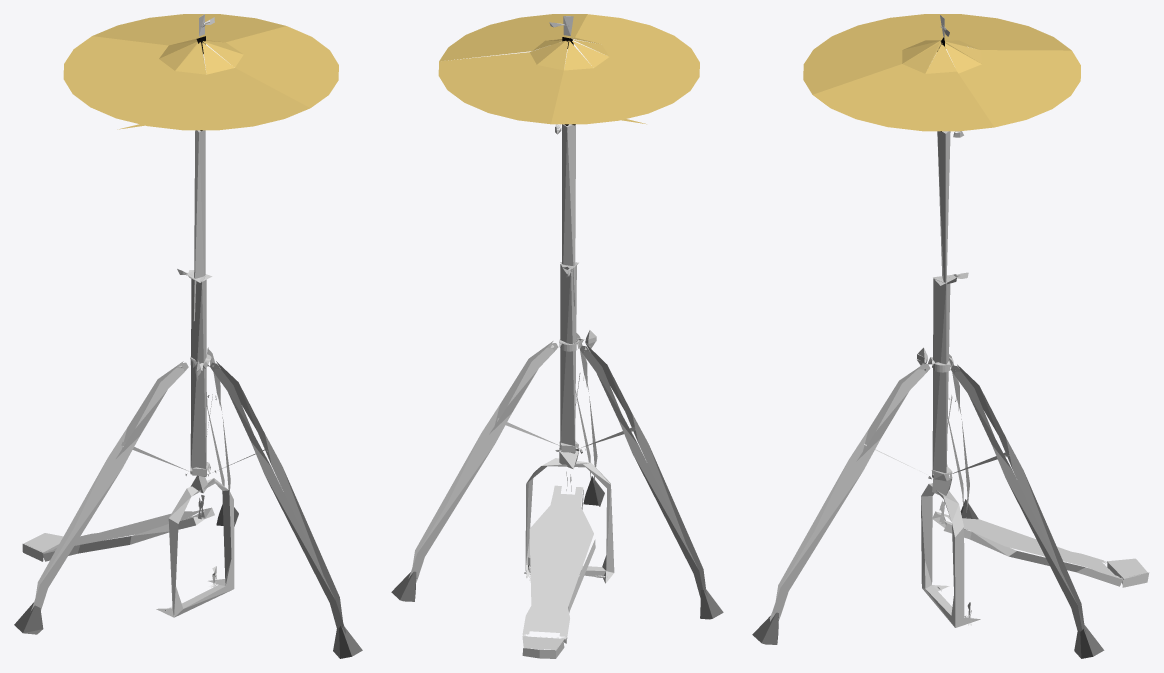
Rendered from hihat.glb.
3 renders of one model, left to right at view 1: azimuth 30°, elevation 25°; view 2: azimuth 150°, elevation 25°; view 3: azimuth 270°, elevation 25°, orthographic. The views are drawn at different scales.
Visible parts, largest first — view 1: hihat; view 2: hihat; view 3: hihat.
Part boxes in pixels (x1,y1,x2,y2): hihat: (14,14,362,658); hihat: (391,14,723,658); hihat: (752,14,1149,658).
Bounding box in the file's own units: 2.7 × 5.27 × 3.17.
